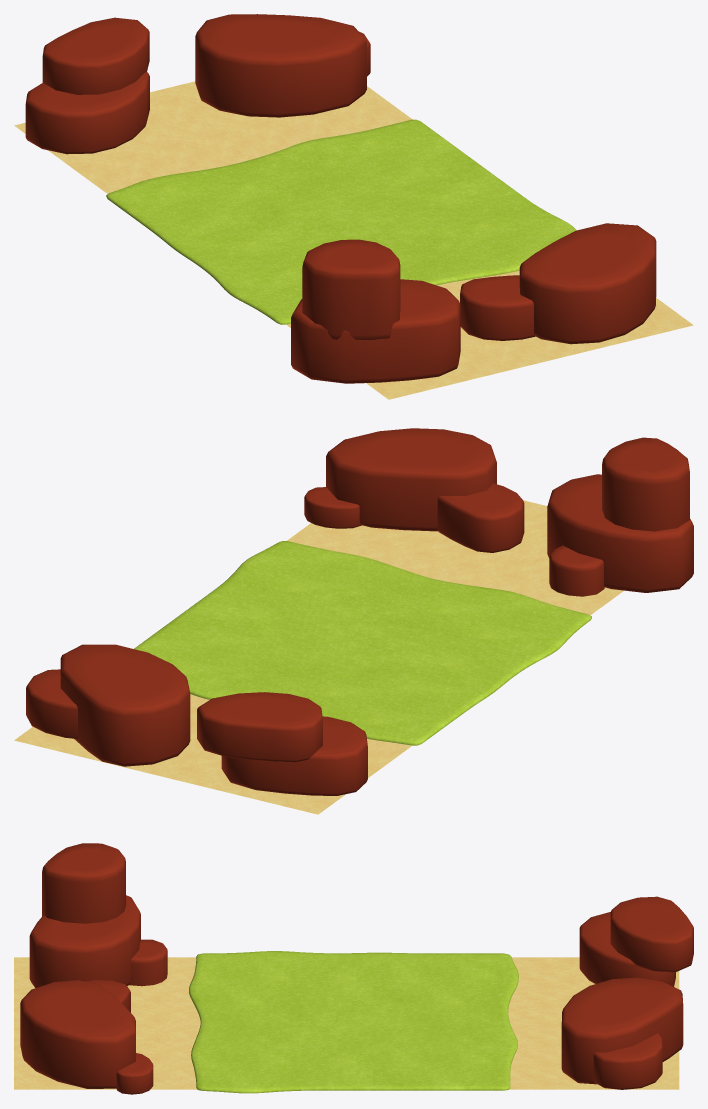
The model's file is BackRock.fbx.
3 views of the same model, one above another, from view 1: azimuth 30°, elevation 25°; view 2: azimuth 150°, elevation 25°; view 3: azimuth 270°, elevation 25° (orthographic). The views are drawn at different scales.
Visible parts, largest first — view 1: Grass1, Grass1Back, BackRock010, BackRock004, BackRock007, BackRock008, BackRock001, BackRock003, BackRock005; view 2: Grass1, Grass1Back, BackRock004, BackRock010, BackRock007, BackRock003, BackRock008, BackRock001, BackRock005, BackRock, BackRock009, BackRock006; view 3: Grass1, Grass1Back, BackRock004, BackRock010, BackRock007, BackRock008, BackRock003, BackRock001, BackRock, BackRock009, BackRock006, BackRock005.
Part boxes in pixels (x1,y1,x2,y2): Grass1: (106, 119, 576, 324); Grass1Back: (14, 81, 693, 399); BackRock010: (195, 14, 366, 117); BackRock004: (519, 223, 656, 344); BackRock007: (291, 279, 460, 383); BackRock008: (302, 239, 400, 339); BackRock001: (25, 72, 149, 154); BackRock003: (42, 17, 149, 94); BackRock005: (460, 275, 535, 340); Grass1: (134, 541, 591, 745); Grass1Back: (14, 500, 623, 814); BackRock004: (326, 428, 496, 531); BackRock010: (60, 644, 190, 766); BackRock007: (547, 474, 693, 592); BackRock003: (197, 692, 322, 762); BackRock008: (602, 437, 689, 531); BackRock001: (221, 716, 367, 795); BackRock005: (437, 483, 524, 552); BackRock: (26, 669, 77, 738); BackRock009: (549, 545, 604, 596); BackRock006: (304, 487, 361, 528); Grass1: (189, 951, 518, 1093); Grass1Back: (14, 957, 679, 1089); BackRock004: (20, 980, 135, 1088); BackRock010: (561, 977, 683, 1084); BackRock007: (29, 895, 140, 987); BackRock008: (42, 843, 125, 923); BackRock003: (610, 896, 693, 971); BackRock001: (579, 912, 675, 986); BackRock: (593, 1033, 662, 1089); BackRock009: (129, 939, 167, 986); BackRock006: (116, 1053, 153, 1094); BackRock005: (86, 979, 130, 1012).
Size of the model in its own units: 4195 by 1399 by 7687.
